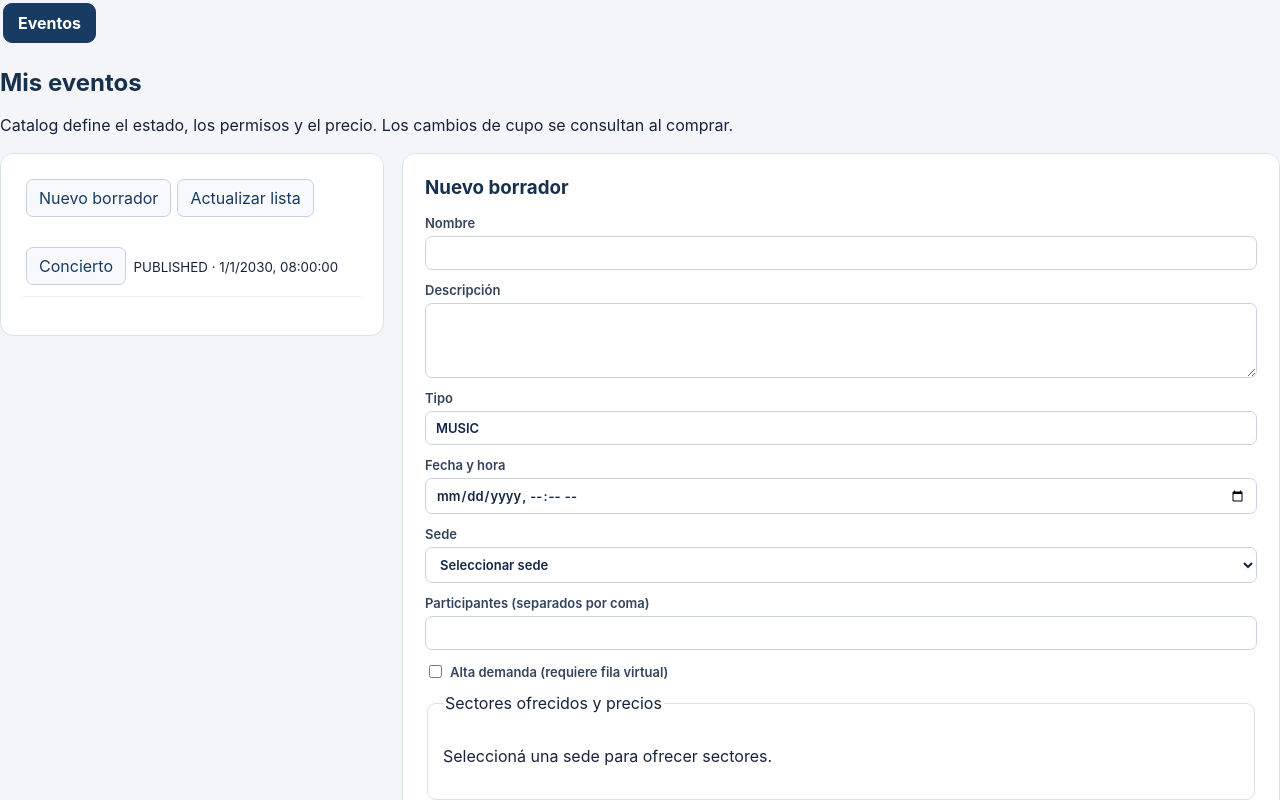
Scenario: operaciones por Gateway › oculta las herramientas de ADMIN al organizador y marca capacidad desconocida en el reporte
The image size is (1280, 800).
Click the button "Concierto" at (76, 266), box [26,247,126,285]
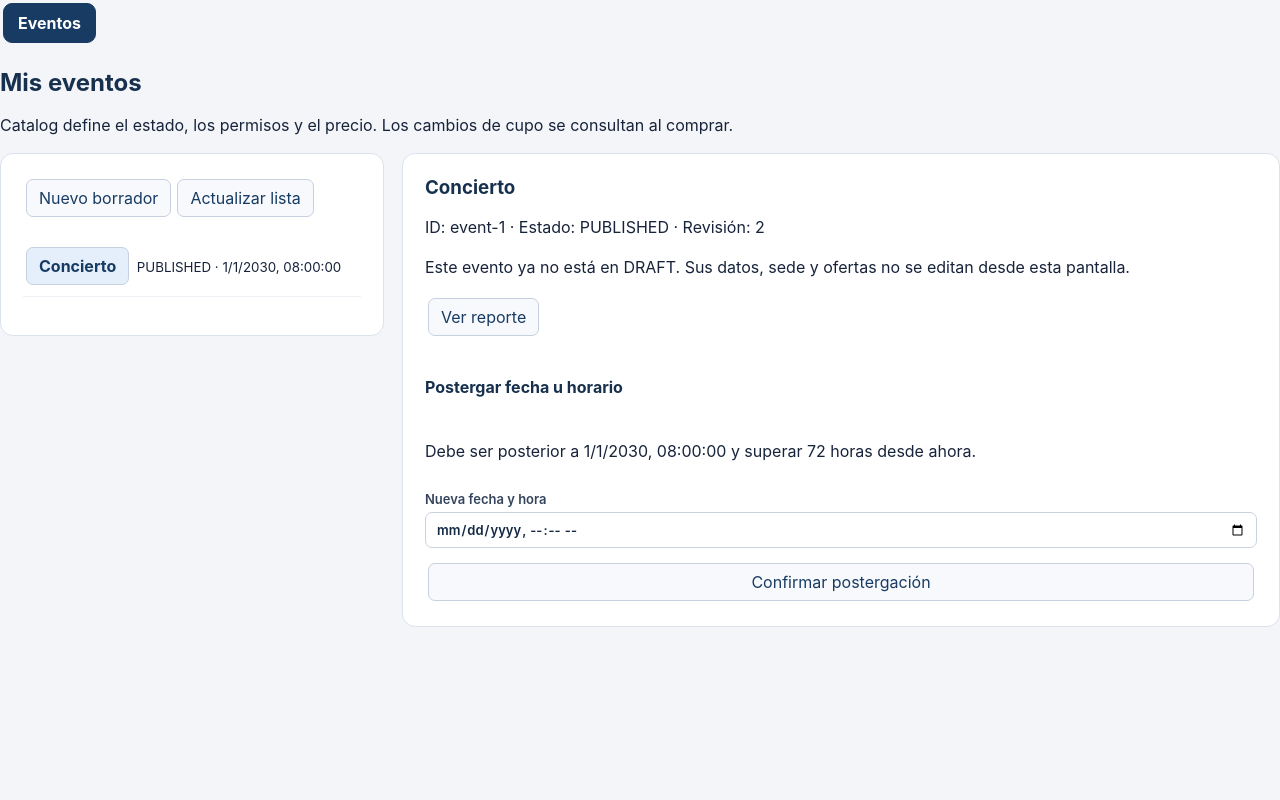
Click the button "Ver reporte" at (484, 317), box [428,298,539,336]
(page scrolled)
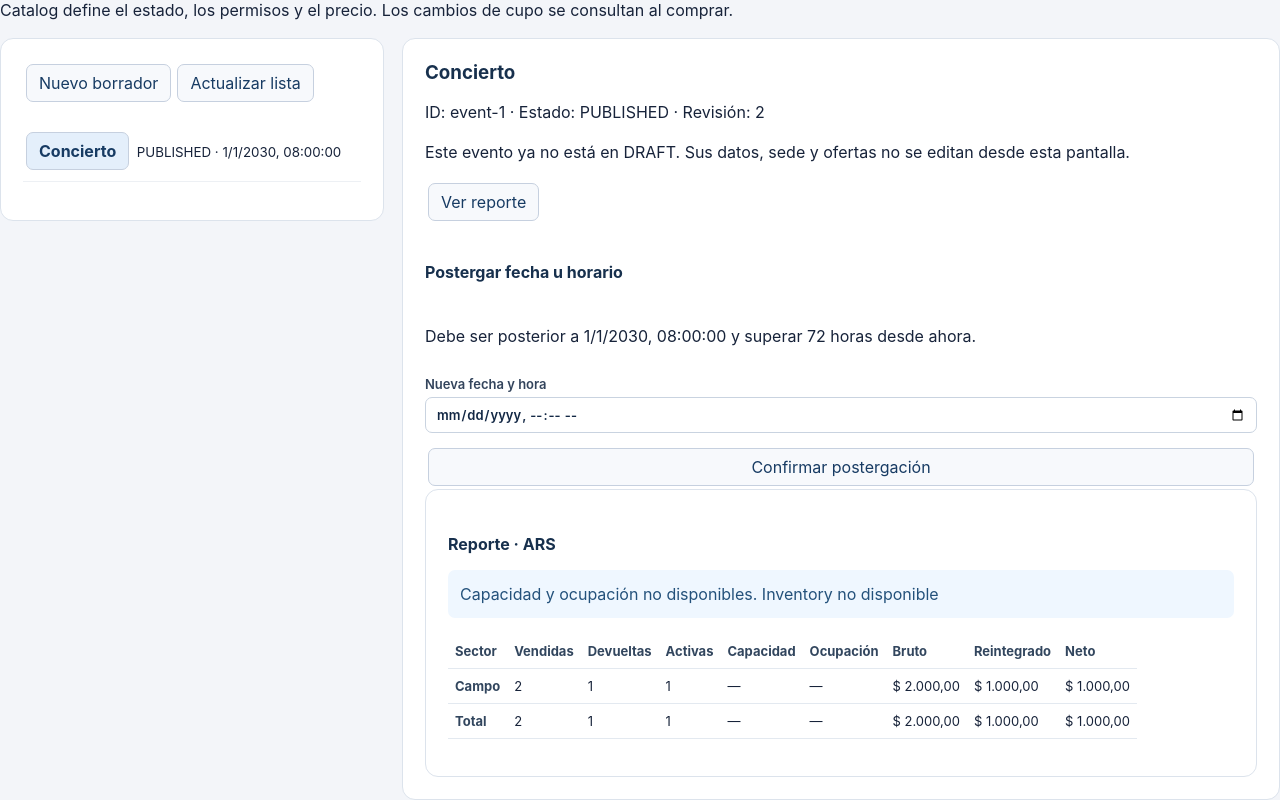
Expected: the text "Capacidad y ocupación no disponibles. Inventory no disponible" is shown, [448,570,1234,618]
Expected: the 1st text "—" is shown, [720,668,803,704]
